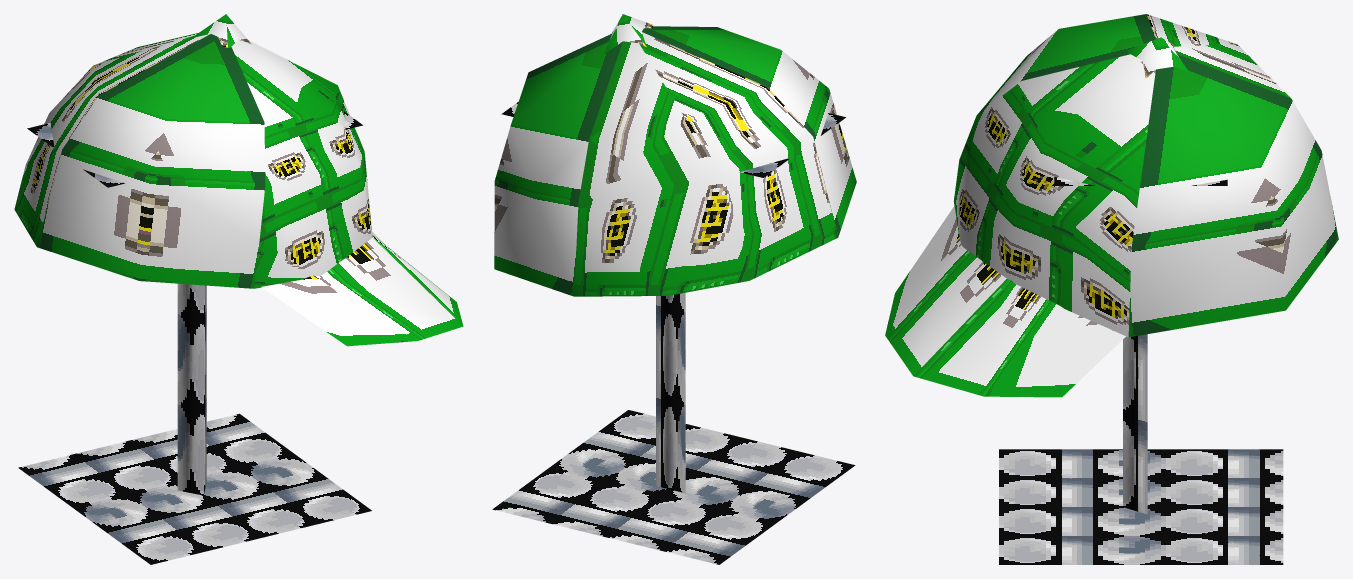
Rendered from 2889head024_c.gltf.
3 renders of one model, left to right at view 1: azimuth 30°, elevation 25°; view 2: azimuth 150°, elevation 25°; view 3: azimuth 270°, elevation 25°, orthographic. The views are drawn at different scales.
Visible parts, largest first — view 1: 2889head024_c; view 2: 2889head024_c; view 3: 2889head024_c.
Boxes of the visible parts, x1,y1,x2,y2 form: 2889head024_c: (14,14,463,564); 2889head024_c: (492,14,856,564); 2889head024_c: (885,14,1338,564).
Size of the model in its own units: 0.7251 by 0.9226 by 0.7661.
2 materials, 2 textured.
